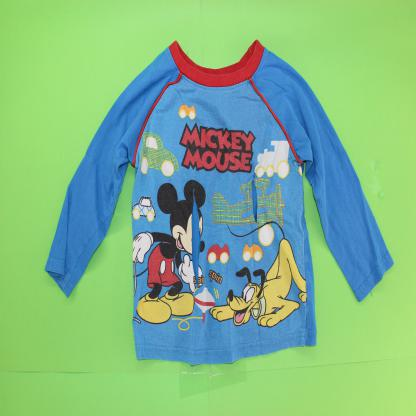hole: (188, 183, 202, 289), (247, 162, 260, 228)
